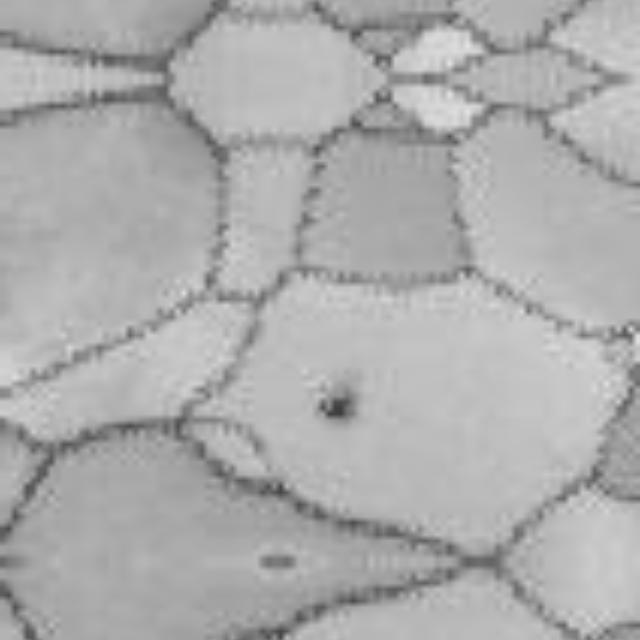good_void: (304, 363, 368, 428)
